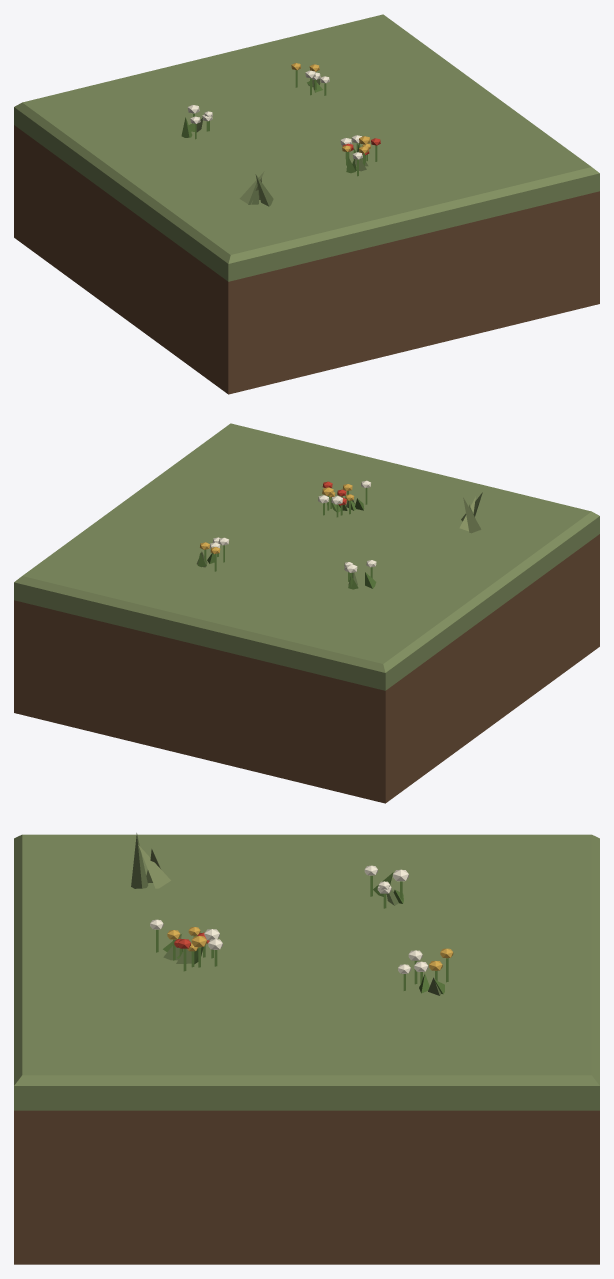
File: Ground D.fbx
The picture shows the model from 3 angles, top to bottom: view 1: azimuth 30°, elevation 25°; view 2: azimuth 150°, elevation 25°; view 3: azimuth 270°, elevation 25°; orthographic projection. The views are drawn at different scales.
Parts seen in each view (by area): view 1: Ground D; view 2: Ground D; view 3: Ground D.
Part boxes in pixels (left/top/right/bottom): Ground D: left=14, top=14, right=599, bottom=394; Ground D: left=14, top=423, right=599, bottom=803; Ground D: left=14, top=833, right=599, bottom=1264.
Bounding box in the file's own units: 1 × 0.4379 × 1.
